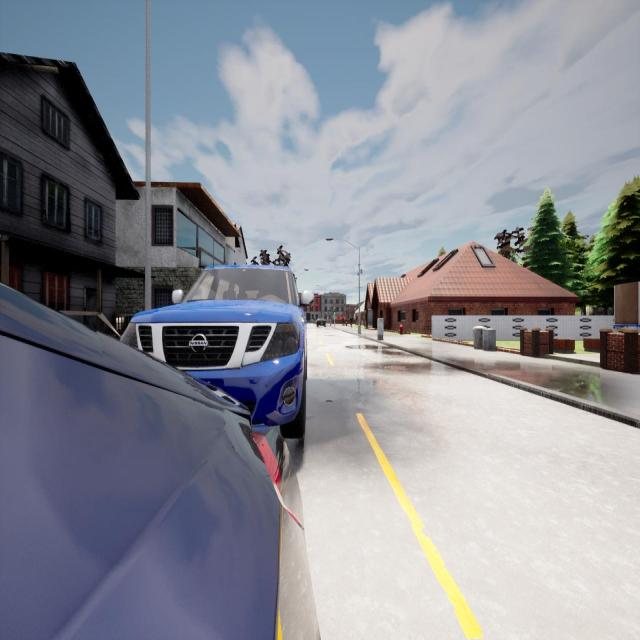Pedestrian: (350, 316, 353, 328)
Vehicle: (0, 286, 316, 638), (121, 266, 305, 438), (317, 318, 326, 327)
traffic_light: (334, 310, 336, 314)
